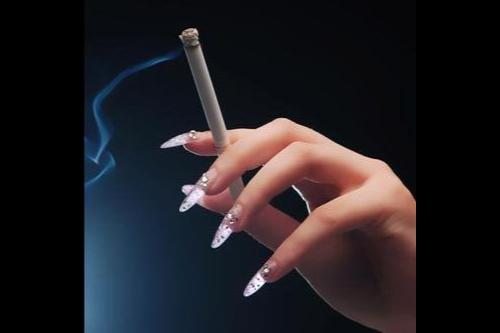Cigarette: (178, 26, 244, 204)
